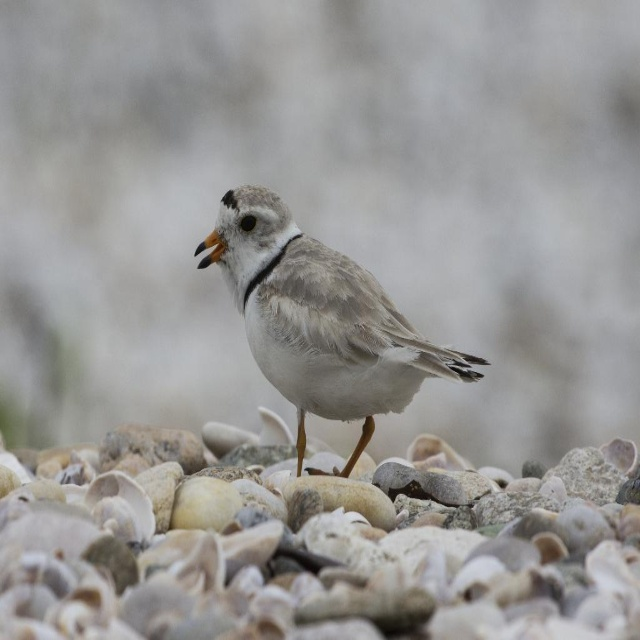Sparrow: (194, 184, 490, 477)
